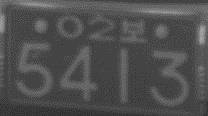0: (54, 12, 85, 40)
1: (106, 46, 140, 105)
2: (87, 14, 118, 41)
3: (150, 48, 189, 108)
4: (58, 43, 100, 102)
5: (15, 40, 52, 99)
보: (118, 16, 147, 44)
